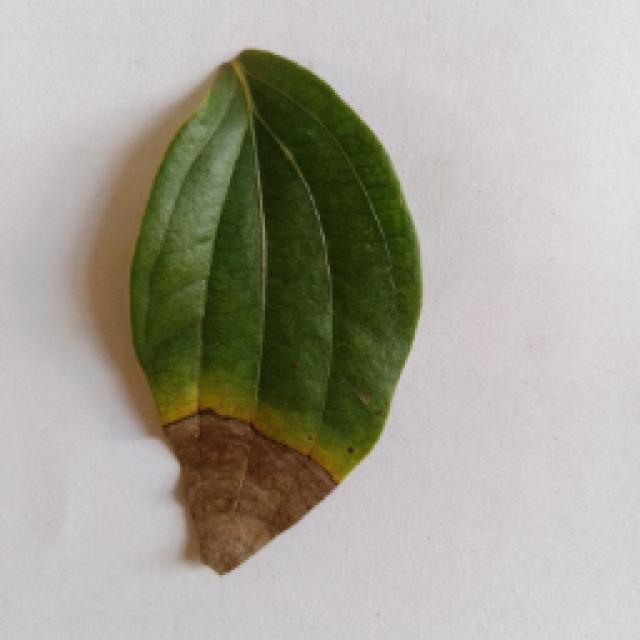footrot: (120, 50, 420, 580)
